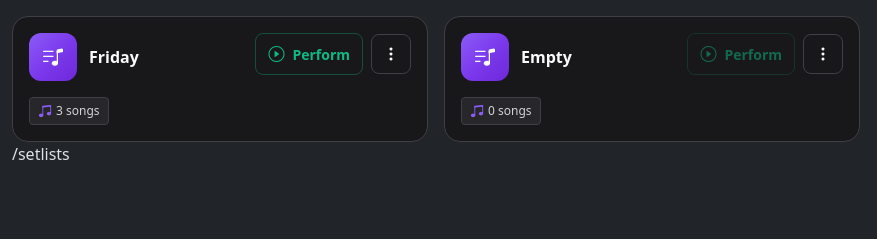
SetlistList cards (spec §3) › Edit from the menu opens the editor
The image size is (877, 239).
Click the button named "More actions" in the row of "Friday" at x=391, y=54, box [371,34,411,74]
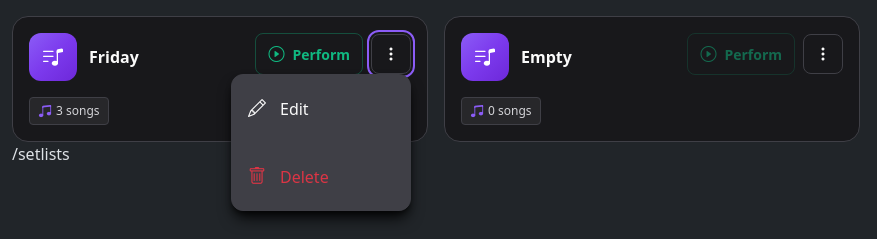
Click the menu item "Edit" at x=321, y=108, box [232,83,410,134]
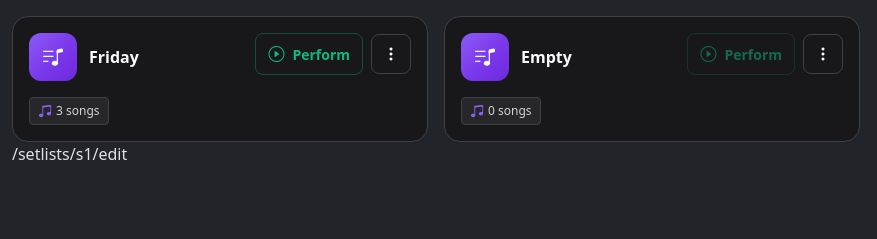
Result: the text with test id "location" reads "/setlists/s1/edit" at [12,143,127,165]
